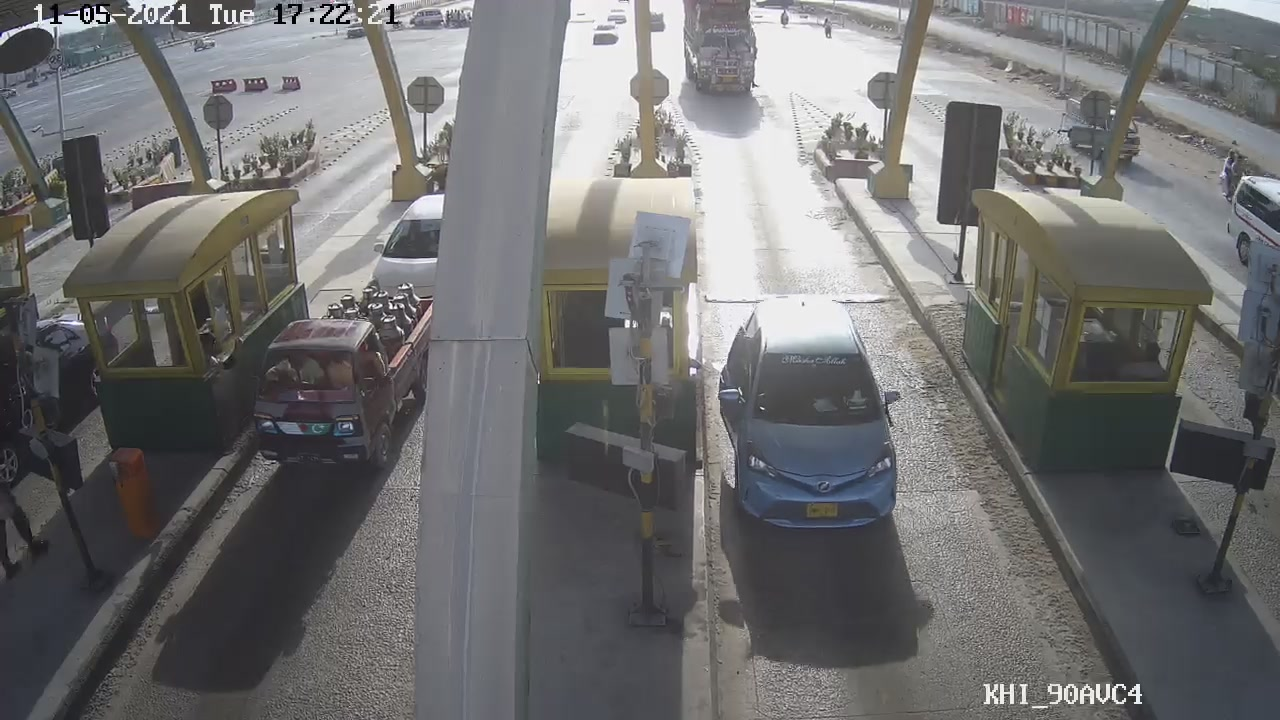F1: (715, 300, 908, 534)
